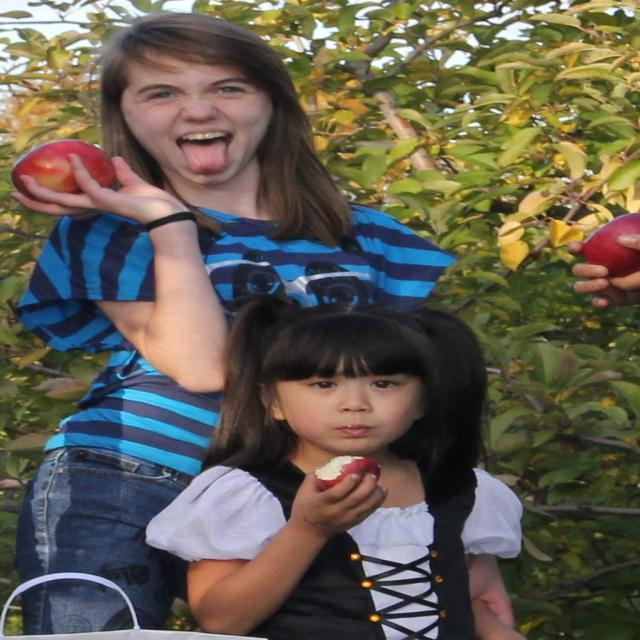closed-mouth: (332, 417, 378, 437)
